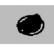correct: (14, 12, 46, 38)
